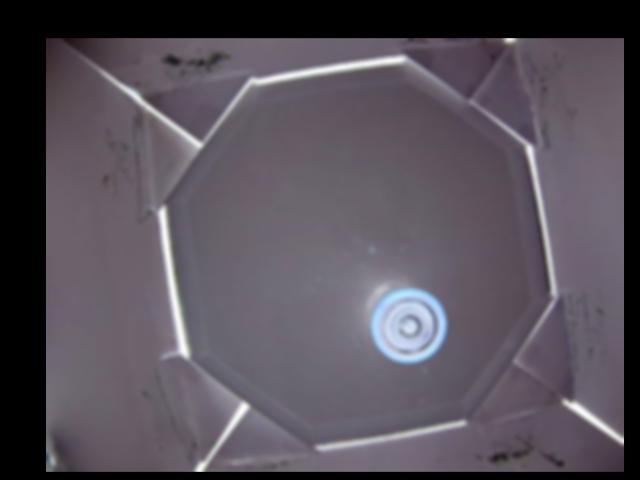Battery: (366, 283, 446, 358)
